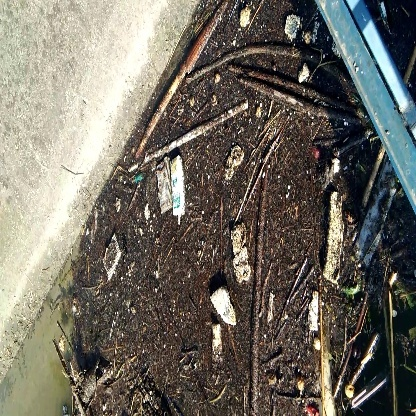branch: (189, 34, 339, 116)
milk-box: (169, 154, 192, 225)
